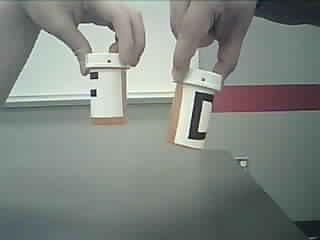Bottle D: (165, 59, 223, 158)
Bottle F: (81, 49, 136, 128)
